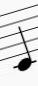note: (11, 7, 37, 73)
